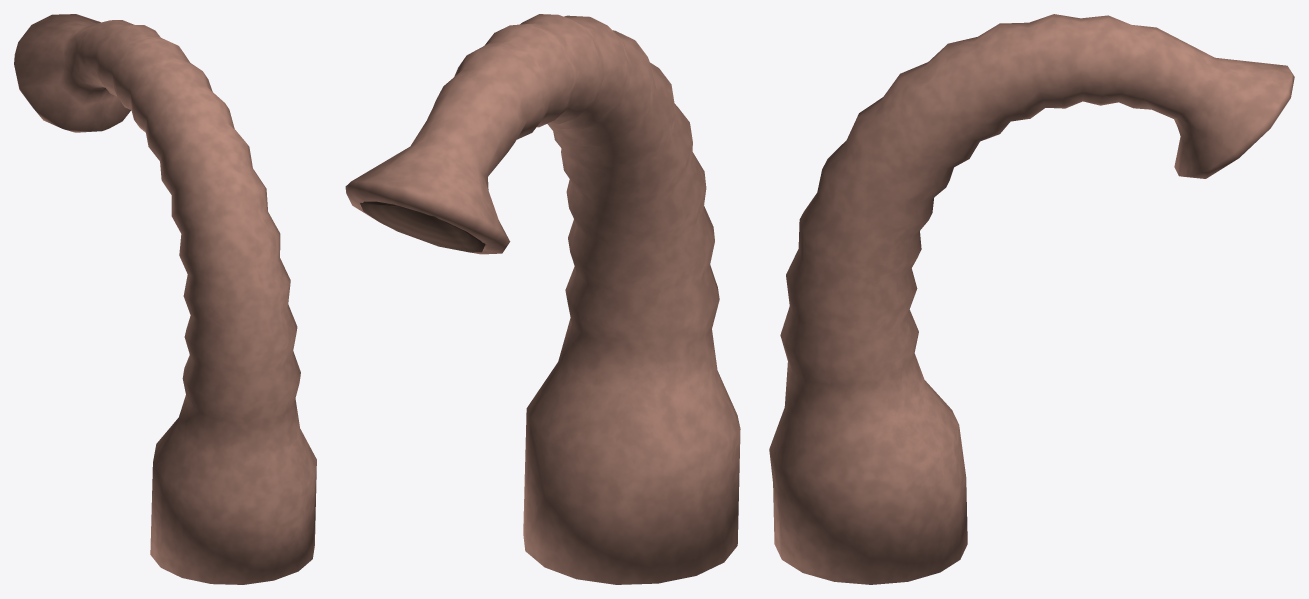
The model's file is cpart_proboscis.glb.
The picture shows the model from 3 angles, left to right: view 1: azimuth 30°, elevation 25°; view 2: azimuth 150°, elevation 25°; view 3: azimuth 270°, elevation 25°; orthographic projection. The views are drawn at different scales.
Visible parts, largest first — view 1: Proboscis; view 2: Proboscis, ProboscisTip; view 3: Proboscis.
Part boxes in pixels (box(x1,y1,x2,y2)): Proboscis: box(14, 14, 316, 584); Proboscis: box(345, 14, 740, 584); ProboscisTip: box(360, 201, 485, 252); Proboscis: box(769, 14, 1294, 584).
Bounding box in the file's own units: 0.0532 × 0.1595 × 0.1446.
2 materials, 2 textured.
